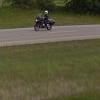Motorcycle: (28, 7, 62, 40)
